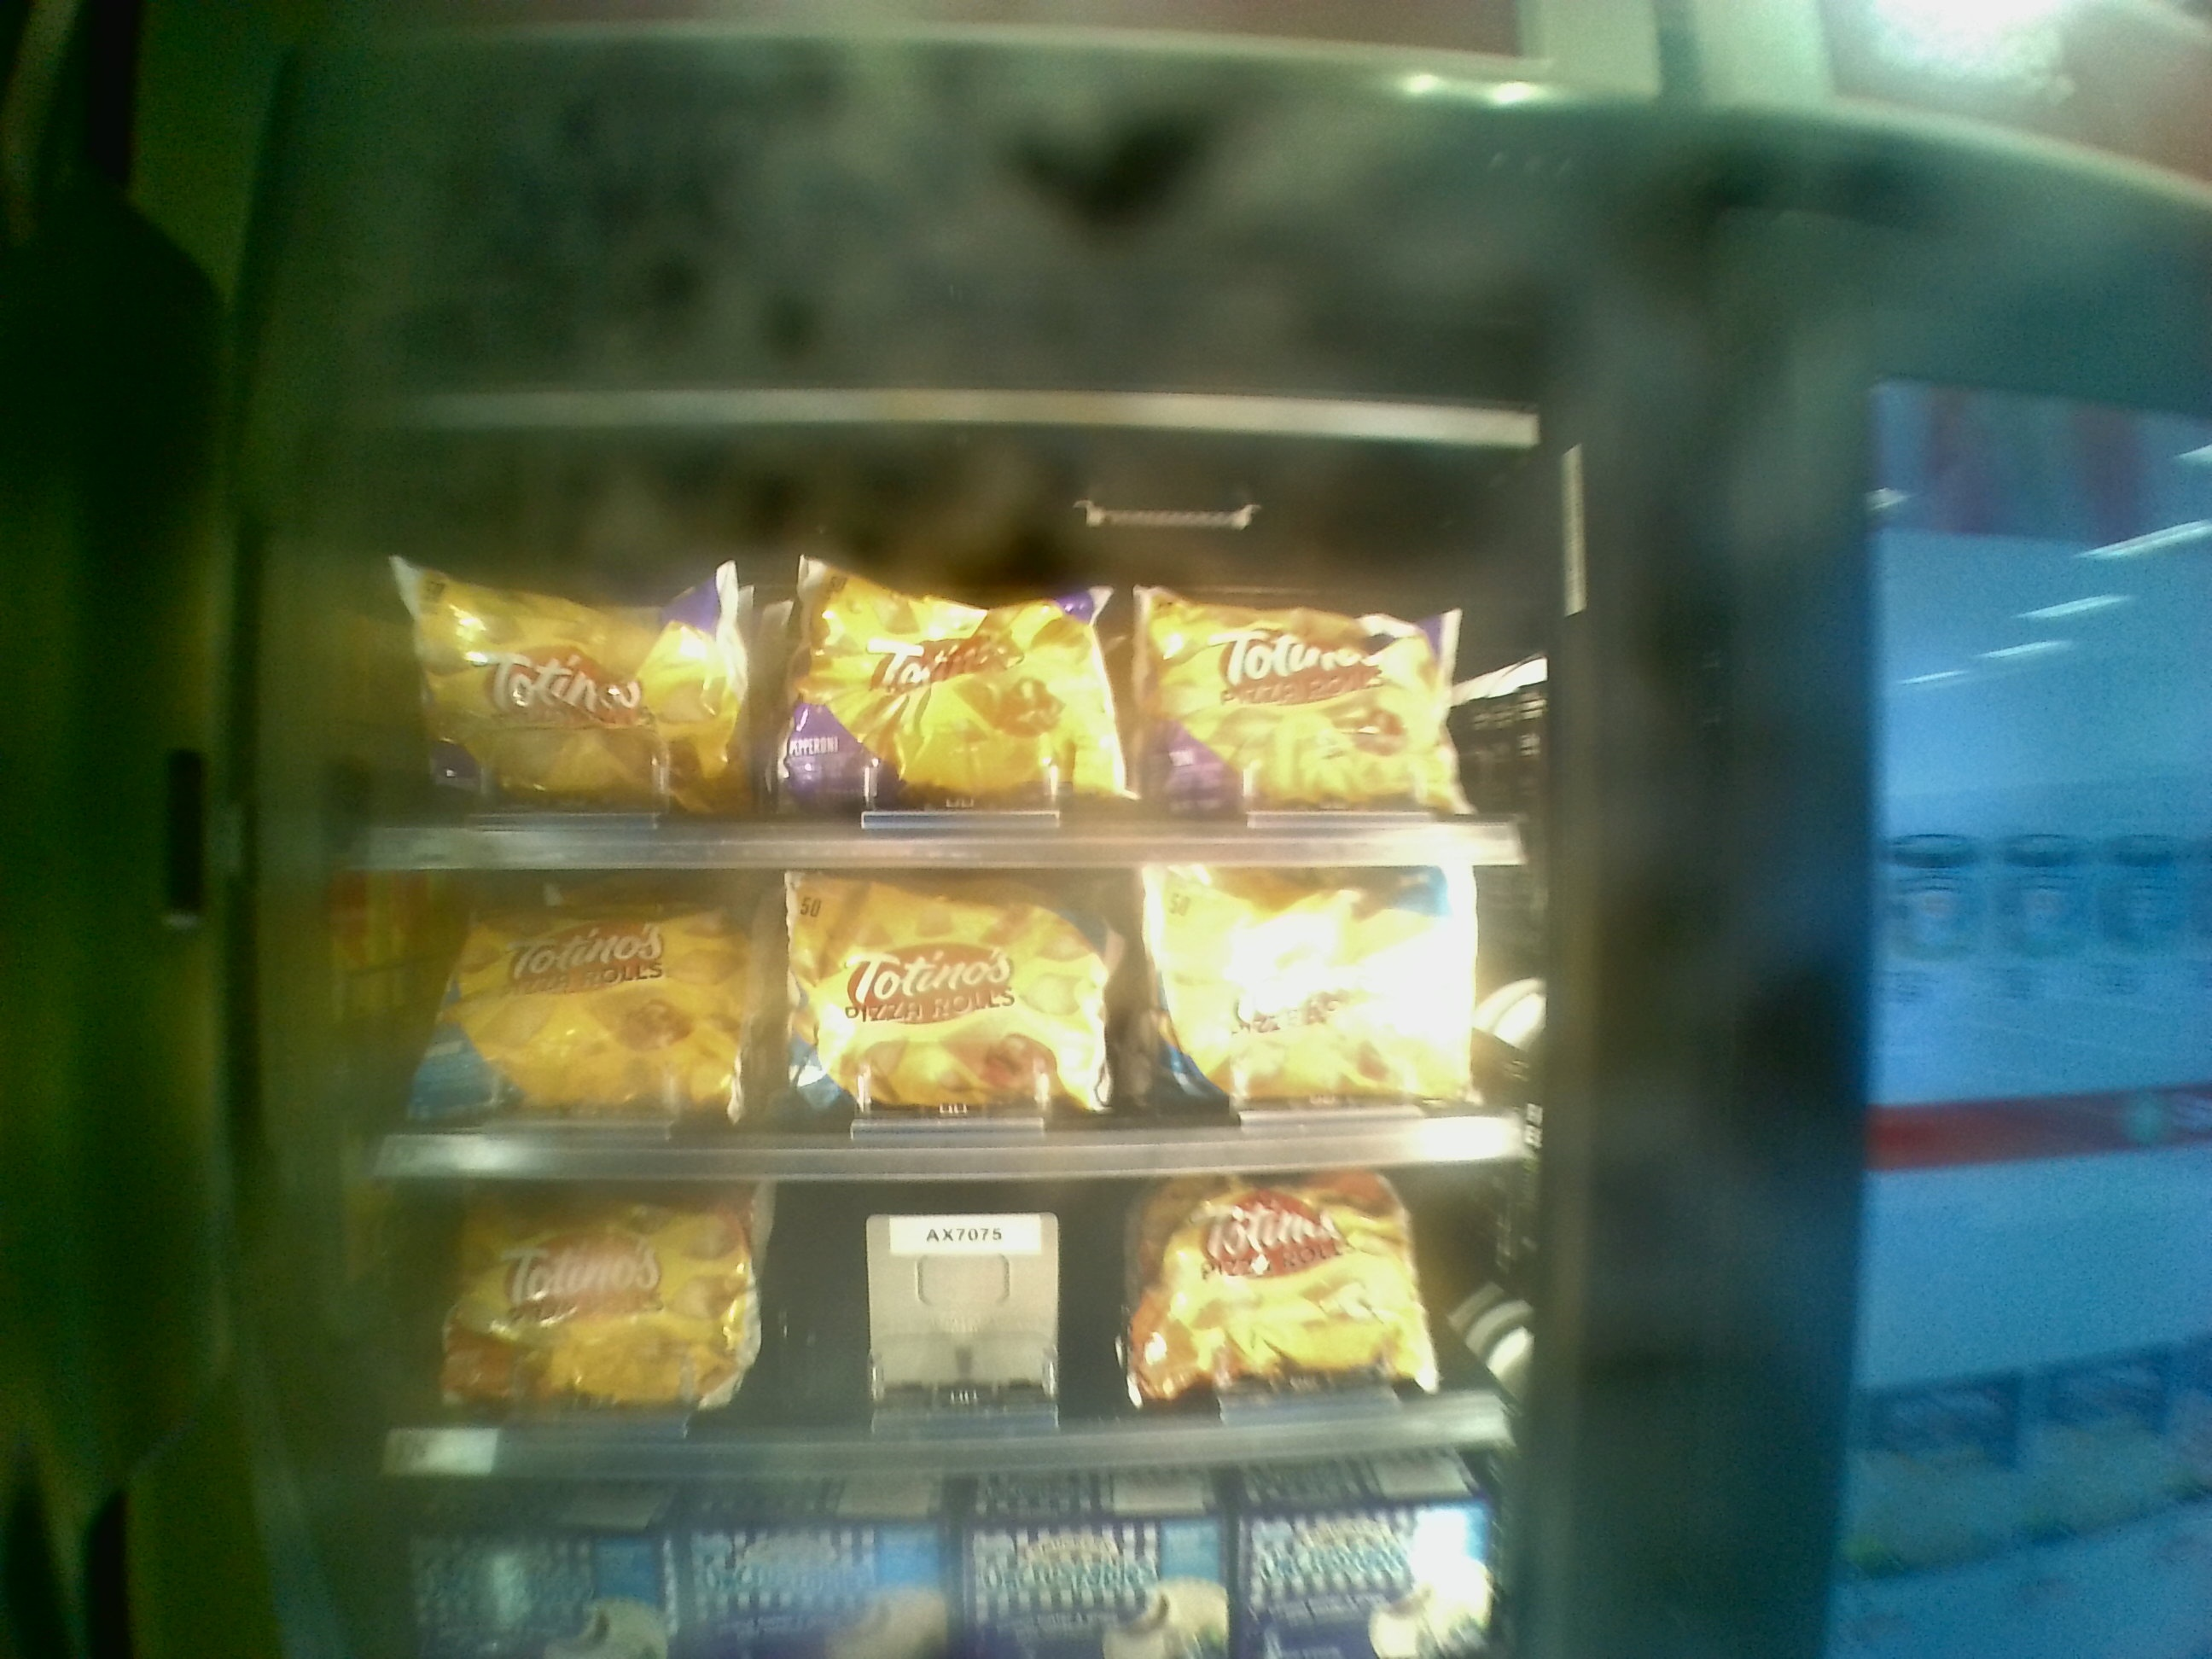shelf: (333, 462, 1536, 861), (345, 861, 1531, 1154), (319, 1154, 1503, 1441)
